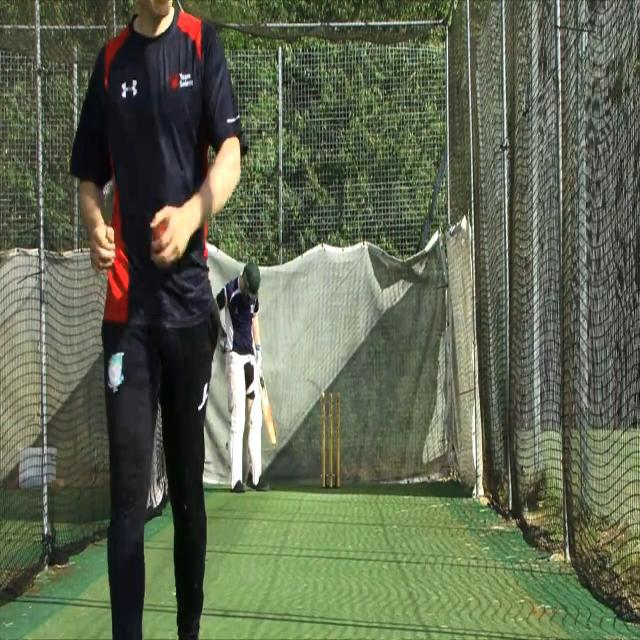batsman: (214, 259, 277, 495)
